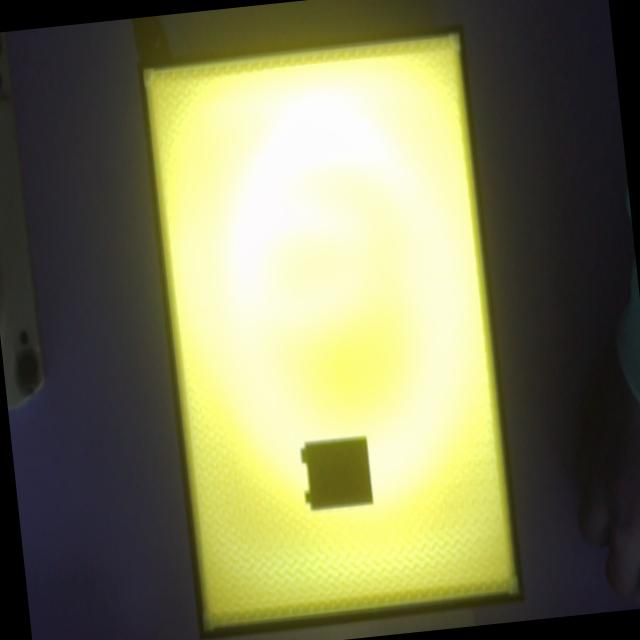bateria: (300, 437, 373, 510)
mesa: (137, 23, 523, 638)
